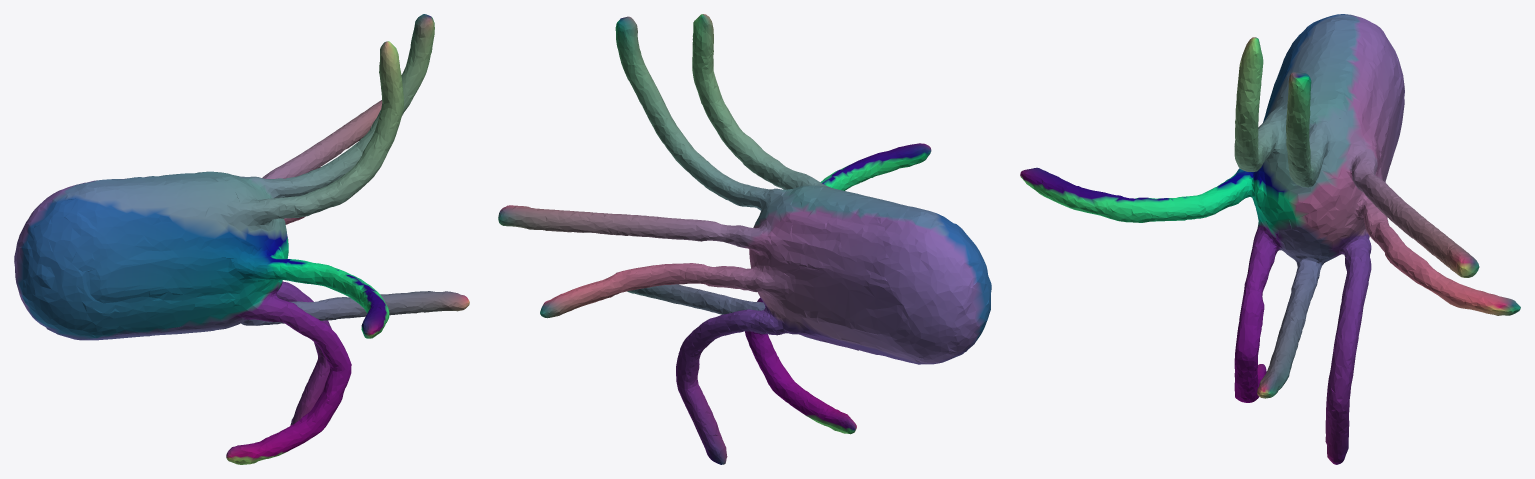
The model's file is octopus-2.off.obj.
3 renders of one model, left to right at view 1: azimuth 30°, elevation 25°; view 2: azimuth 150°, elevation 25°; view 3: azimuth 270°, elevation 25°, orthographic. The views are drawn at different scales.
Size of the model in its own units: 1.53 by 1.39 by 1.39.
